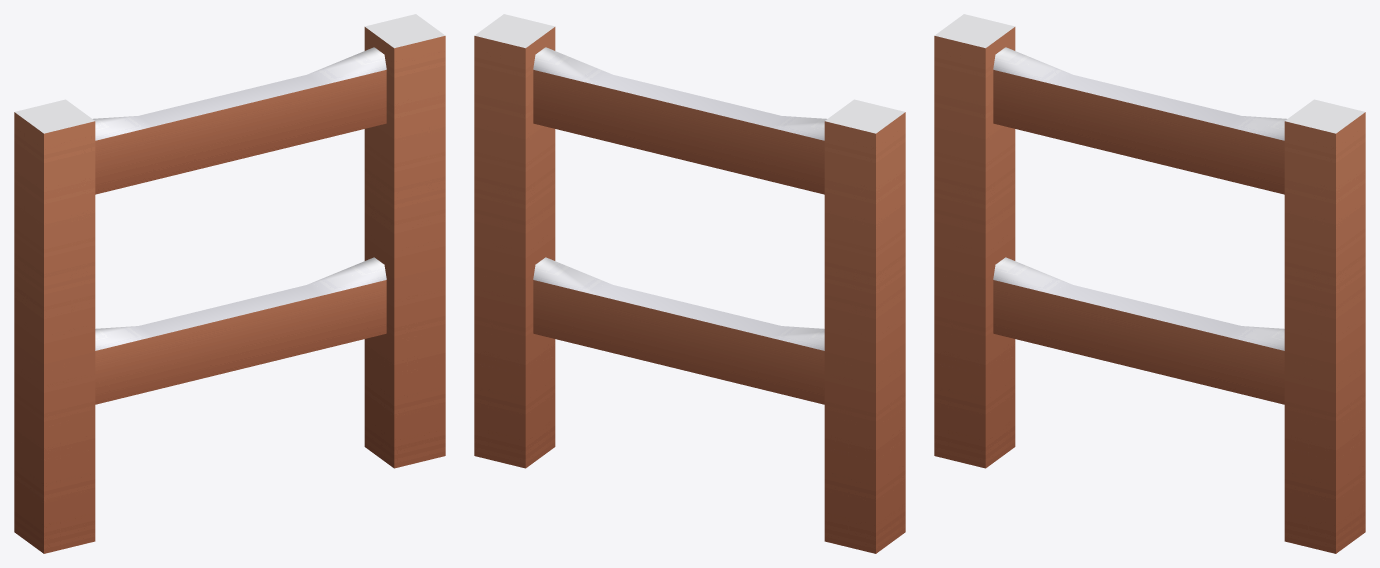
The model's file is tower-defense-kit--snow-wood-structure-high-part.glb.
3 views of the same model, side by side, from view 1: azimuth 30°, elevation 25°; view 2: azimuth 150°, elevation 25°; view 3: azimuth 330°, elevation 25° (orthographic).
Visible parts, largest first — view 1: snow-wood-structure-high-part; view 2: snow-wood-structure-high-part; view 3: snow-wood-structure-high-part.
Part boxes in pixels (x1,y1,x2,y2): snow-wood-structure-high-part: (14, 14, 445, 553); snow-wood-structure-high-part: (474, 14, 905, 553); snow-wood-structure-high-part: (934, 14, 1365, 553).
Bounding box in the file's own units: 1 × 1 × 0.128.
Materials: 1 (1 with a texture image).
